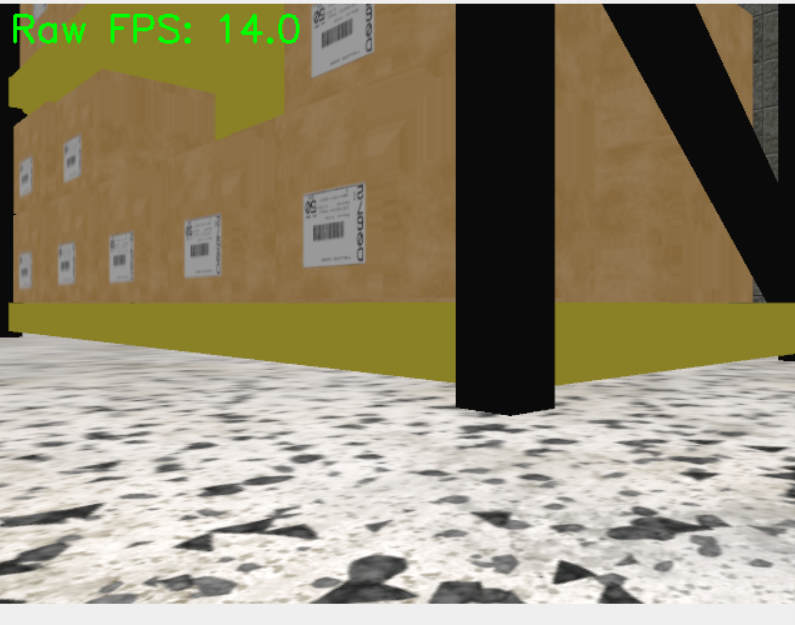barcode: (300, 184, 367, 267), (182, 215, 222, 279), (107, 232, 134, 282), (62, 136, 81, 181), (57, 242, 77, 284), (18, 253, 32, 288), (19, 159, 32, 195)
